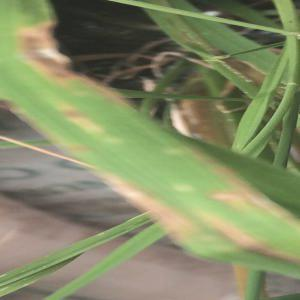1 RiceBlast: (93, 160, 201, 252), (12, 14, 104, 84), (204, 165, 300, 223), (55, 99, 116, 139)
